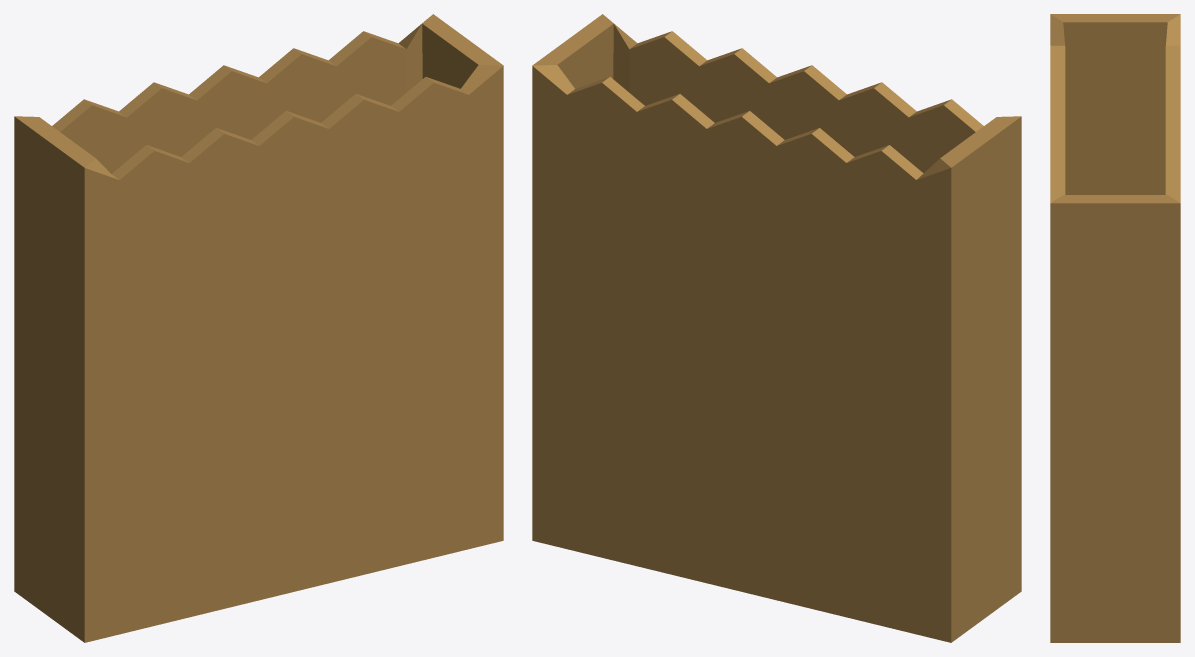
File: package.fbx
3 renders of one model, left to right at view 1: azimuth 30°, elevation 25°; view 2: azimuth 150°, elevation 25°; view 3: azimuth 270°, elevation 25°, orthographic. The views are drawn at different scales.
Parts seen in each view (by area): view 1: package; view 2: package; view 3: package.
Boxes of the visible parts, bbox=[...] form: package: bbox=[14, 14, 503, 642]; package: bbox=[532, 14, 1021, 642]; package: bbox=[1050, 14, 1180, 642].
Bounding box in the file's own units: 0.2955 × 0.3201 × 0.0861.
